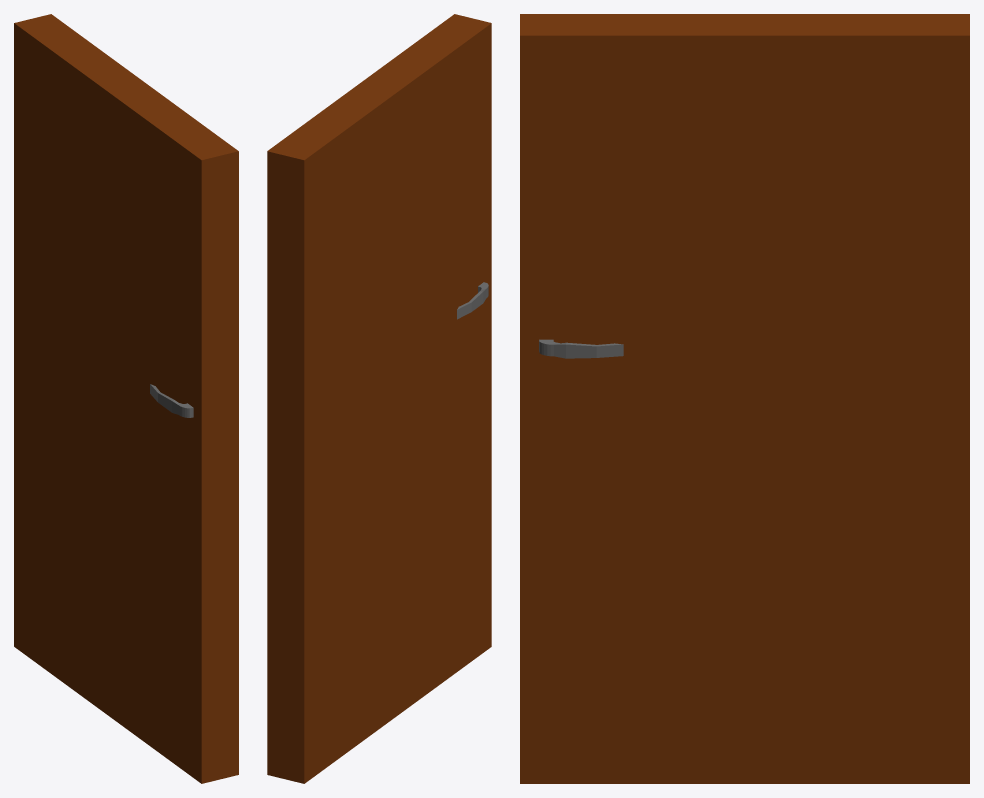
File: Porta.fbx
3 views of the same model, side by side, from view 1: azimuth 30°, elevation 25°; view 2: azimuth 150°, elevation 25°; view 3: azimuth 270°, elevation 25° (orthographic). The views are drawn at different scales.
Parts seen in each view (by area): view 1: Cube.025; view 2: Cube.025; view 3: Cube.025.
Boxes of the visible parts, x1,y1,x2,y2 form: Cube.025: [14, 14, 238, 783]; Cube.025: [267, 14, 491, 783]; Cube.025: [520, 14, 969, 783].
Bounding box in the file's own units: 63.89 × 628 × 342.
